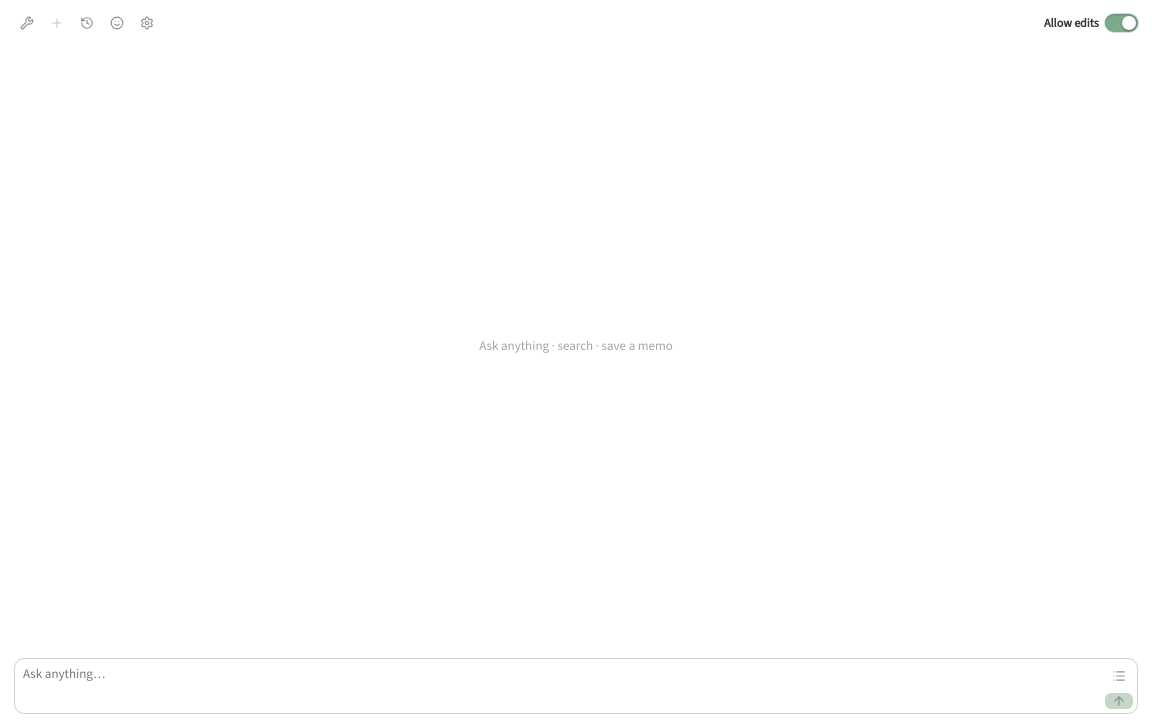
Test case: SidebarChat › fills the composer with the preset prompt instead of sending immediately, selected for editing
Type "draft" into the text box with test id "chat-composer-textarea" at point(560, 686), box [15, 659, 1105, 713]
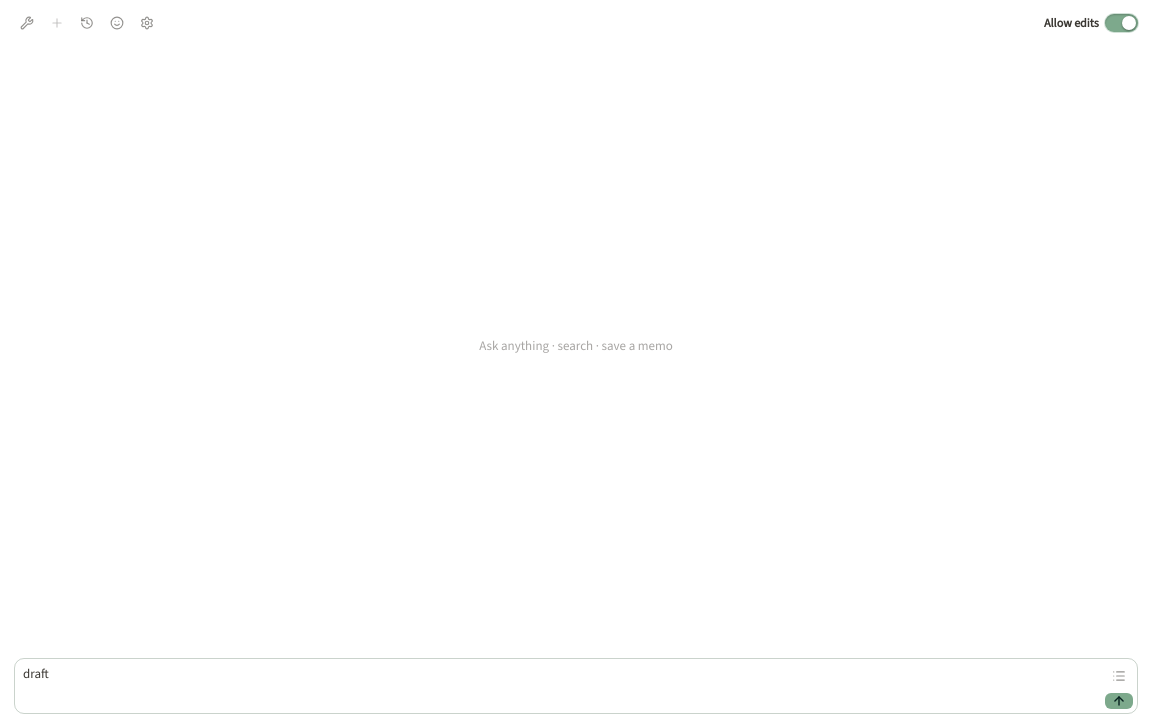
Click the button with test id "chat-presets-btn" at point(1119, 676), box [1105, 663, 1133, 689]
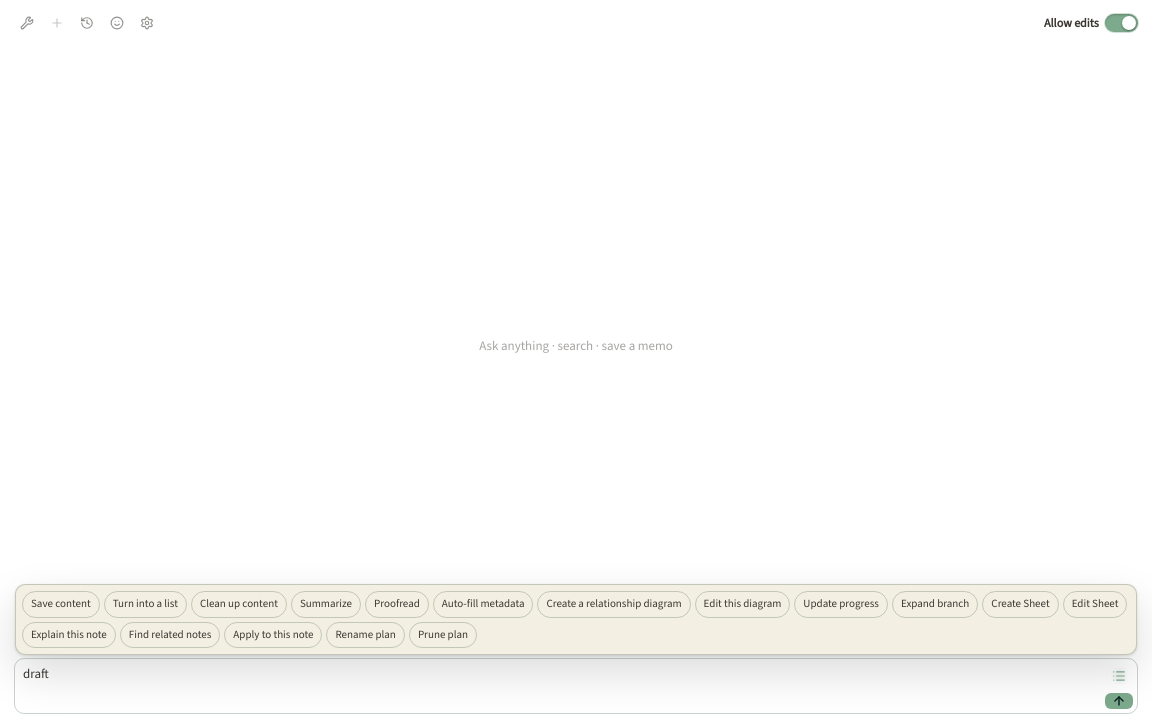
Click the button with test id "chat-preset-ask_note" at point(69, 635), box [22, 622, 116, 648]
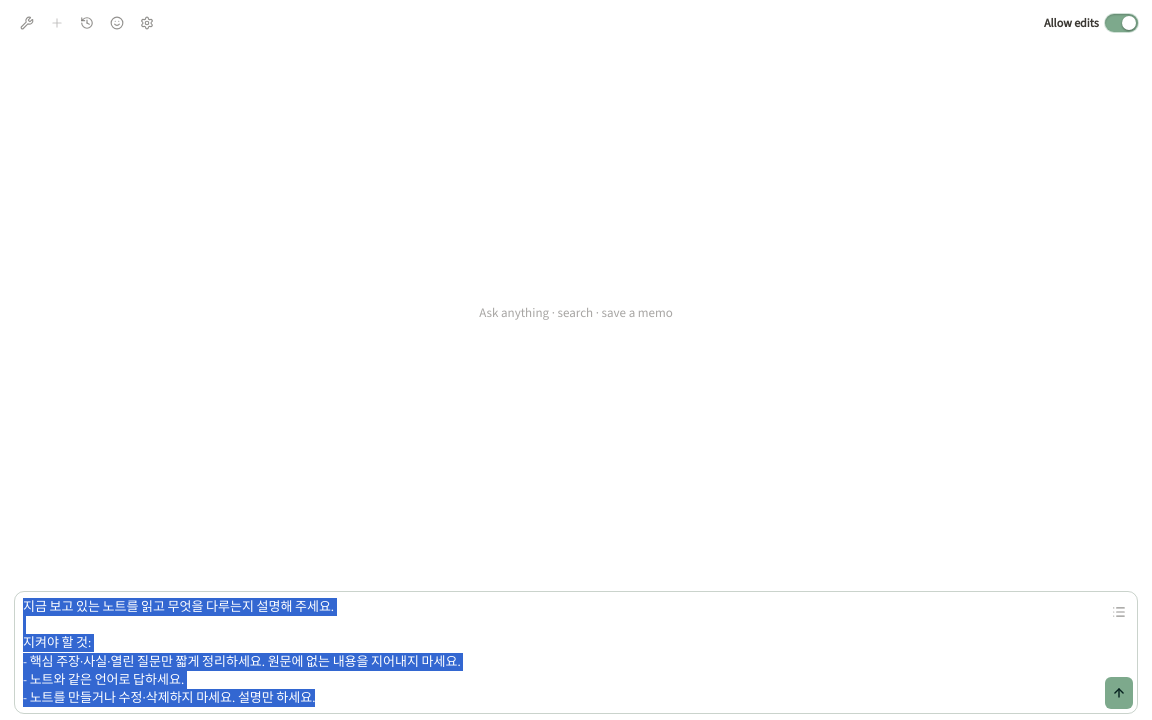
Expected: the button with test id "chat-preset-list" is gone
